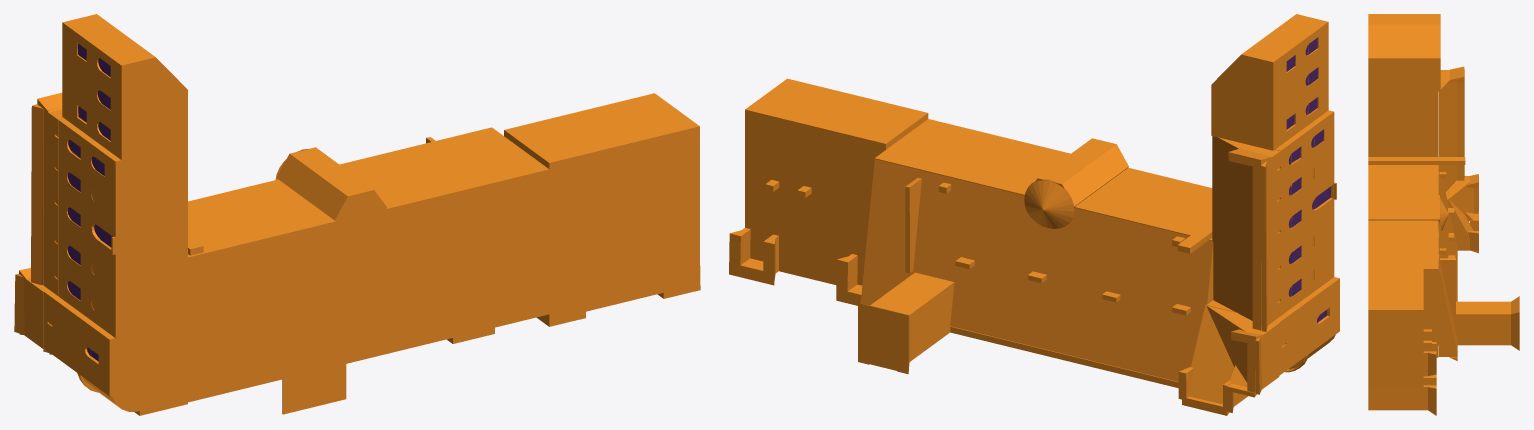
The model's file is Ratusz.obj.
The picture shows the model from 3 angles, left to right: view 1: azimuth 30°, elevation 25°; view 2: azimuth 150°, elevation 25°; view 3: azimuth 270°, elevation 25°; orthographic projection. The views are drawn at different scales.
Parts seen in each view (by area): view 1: Ratusz_obj_0; view 2: Ratusz_obj_0; view 3: Ratusz_obj_0.
Part boxes in pixels (box(x1,y1,x2,y2)): Ratusz_obj_0: box(14, 14, 700, 415); Ratusz_obj_0: box(729, 14, 1339, 415); Ratusz_obj_0: box(1368, 14, 1519, 415).
Size of the model in its own units: 44.85 by 27.66 by 15.94.
